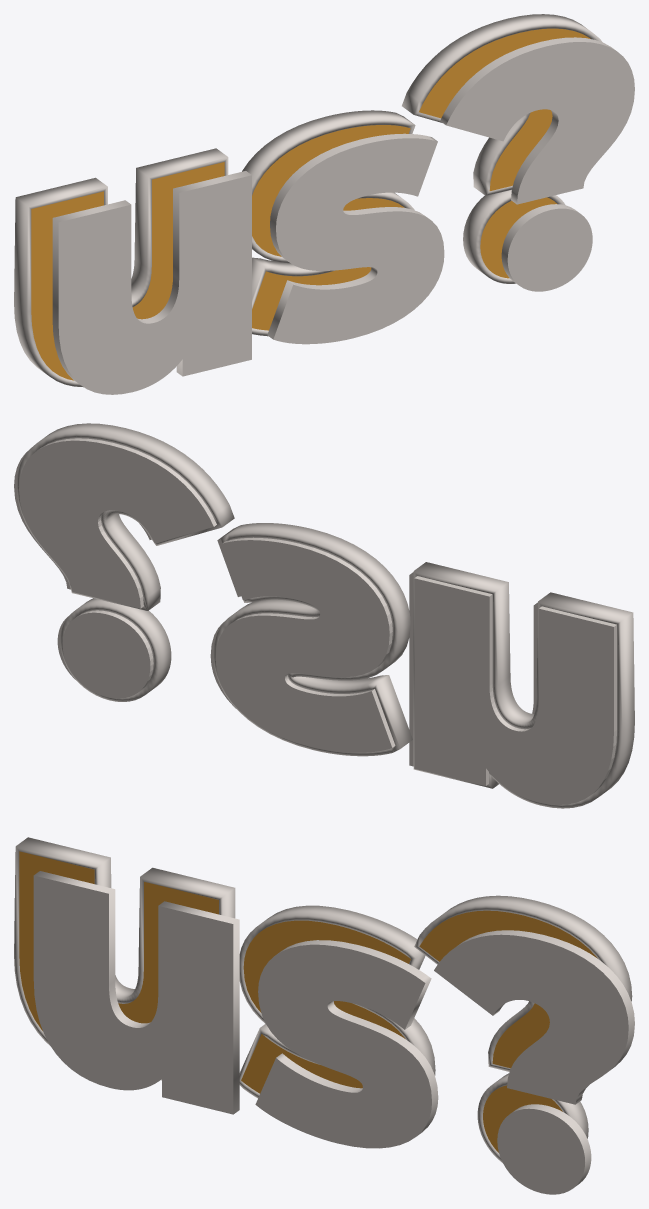
3 renders of one model, top to bottom at view 1: azimuth 30°, elevation 25°; view 2: azimuth 150°, elevation 25°; view 3: azimuth 330°, elevation 25°, orthographic. The views are drawn at different scales.
Parts seen in each view (by area): view 1: us-white, us-yellow, us-border; view 2: us-border, us-white; view 3: us-white, us-yellow, us-border.
Part boxes in pixels (x1=…): us-white: x1=52, y1=37, x2=634, y2=394; us-yellow: x1=31, y1=28, x2=590, y2=380; us-border: x1=14, y1=14, x2=602, y2=387; us-border: x1=16, y1=423, x2=634, y2=808; us-white: x1=14, y1=450, x2=537, y2=766; us-white: x1=33, y1=871, x2=634, y2=1194; us-yellow: x1=19, y1=851, x2=597, y2=1152; us-border: x1=14, y1=837, x2=632, y2=1162.
Bounding box in the file's own units: 1.15 × 0.4819 × 0.0721.
